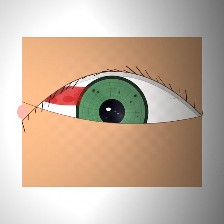hemorrhage_spot: (26, 59, 119, 133)
